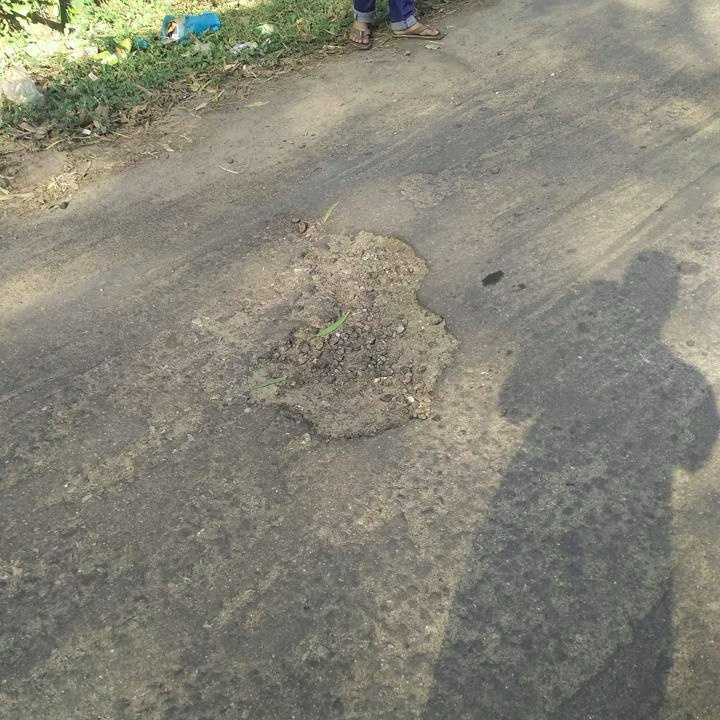pothole: (238, 218, 464, 445), (395, 166, 460, 209)
